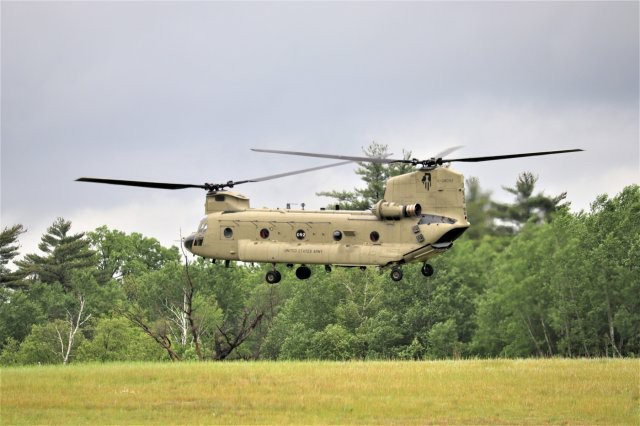chinook: (163, 151, 496, 313)
